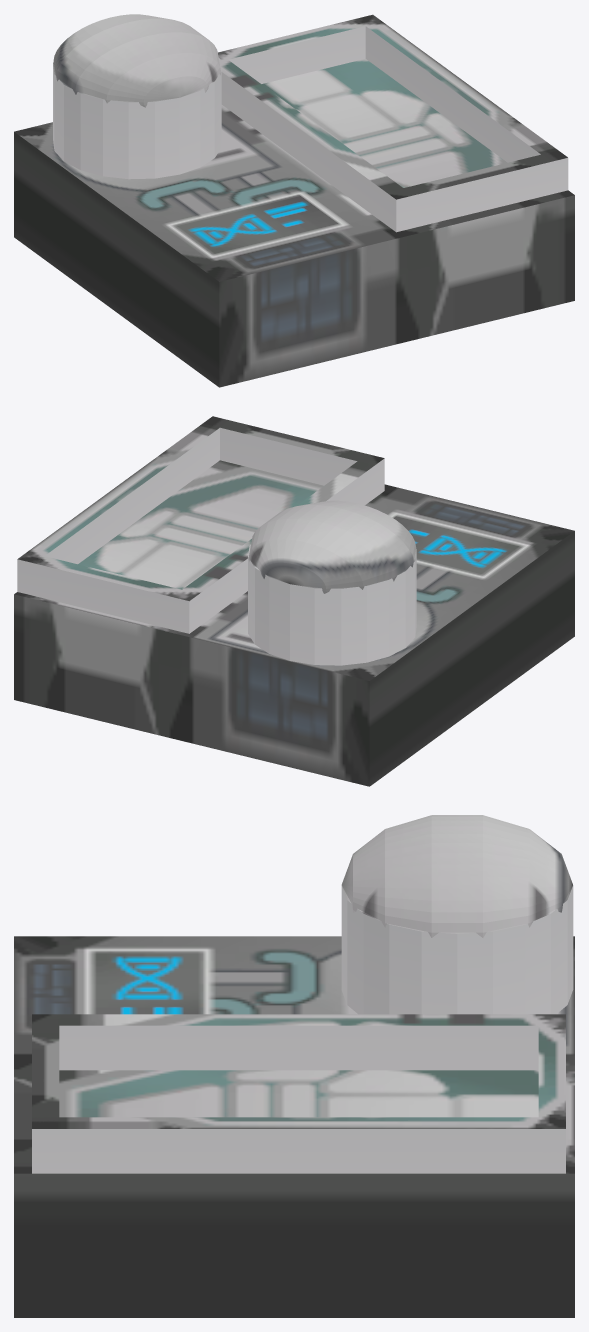
File: Building_GeneExtractor.glb
3 renders of one model, top to bottom at view 1: azimuth 30°, elevation 25°; view 2: azimuth 150°, elevation 25°; view 3: azimuth 270°, elevation 25°, orthographic. The views are drawn at different scales.
Parts seen in each view (by area): view 1: GeneExtractor; view 2: GeneExtractor; view 3: GeneExtractor.
Boxes of the visible parts, <box> form: GeneExtractor: <box>14,14,574,387</box>; GeneExtractor: <box>14,416,574,786</box>; GeneExtractor: <box>14,815,574,1317</box>.
Bounding box in the file's own units: 1.94 × 1.14 × 1.94.
1 material, 1 textured.
